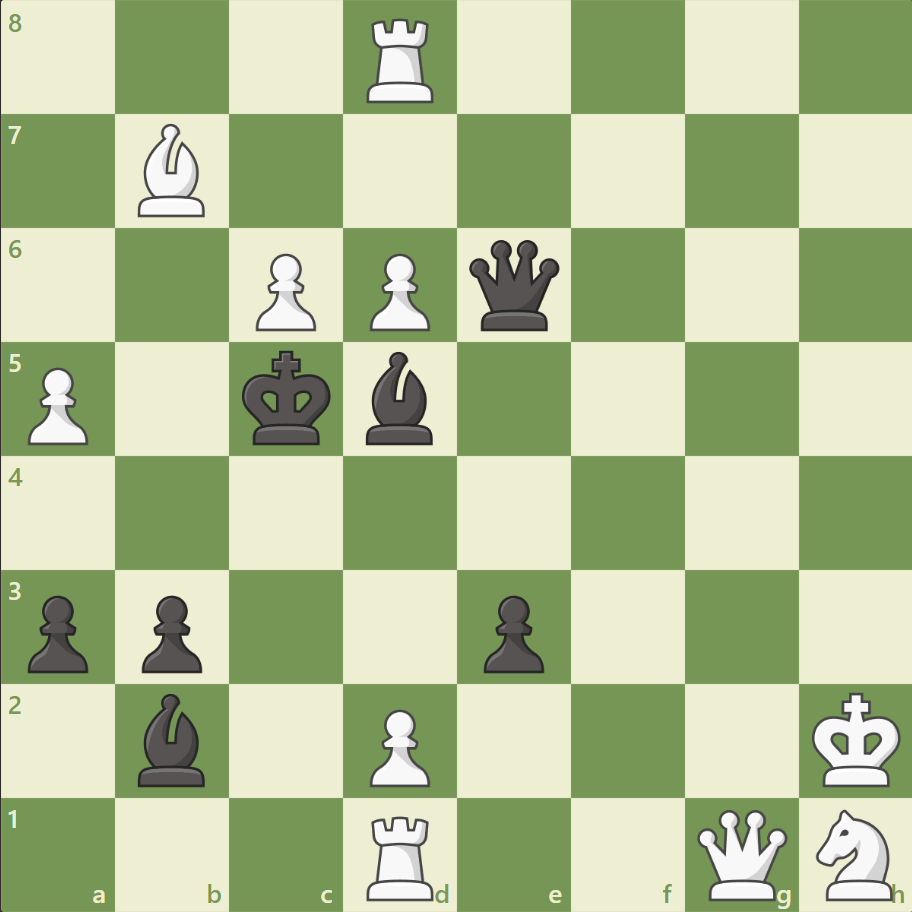B: (131, 120, 215, 222)
K: (806, 685, 906, 793)
N: (806, 802, 903, 904)
P: (247, 246, 322, 337), (20, 359, 95, 450), (361, 246, 435, 337), (361, 700, 435, 791)
Q: (691, 804, 790, 903)
R: (360, 806, 442, 904), (360, 12, 442, 109)
b: (131, 687, 215, 790), (358, 347, 442, 449)
k: (238, 344, 338, 452)
p: (20, 586, 95, 677), (133, 586, 208, 677), (474, 586, 549, 677)
q: (464, 236, 563, 335)
